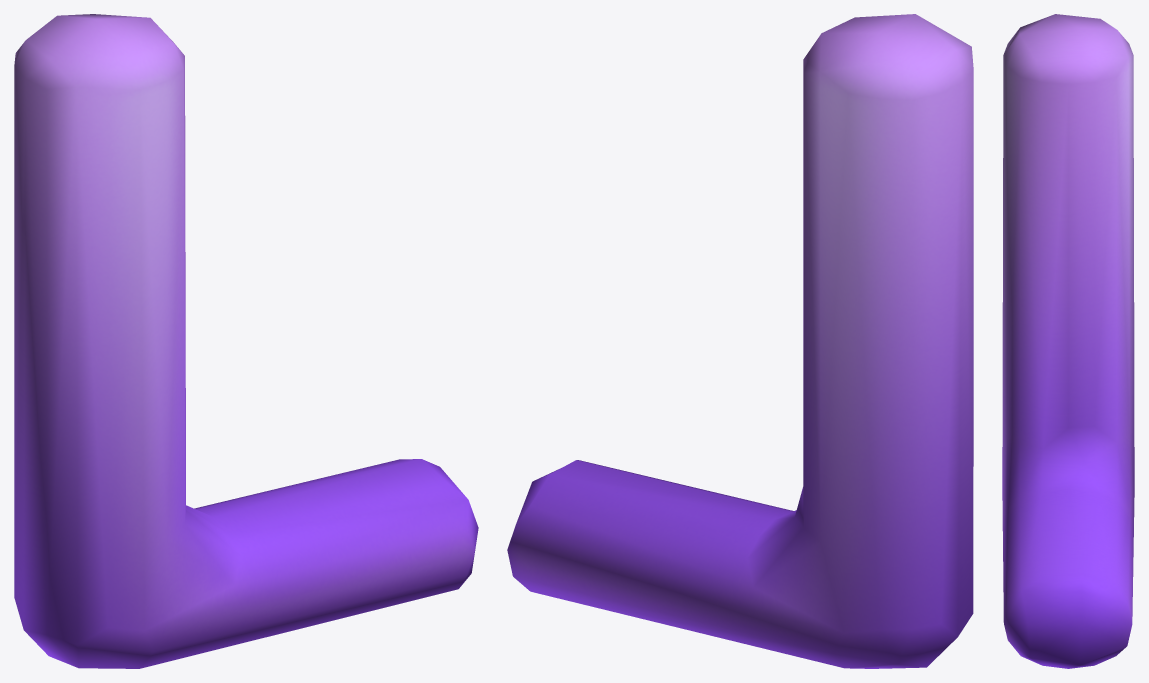
3 views of the same model, side by side, from view 1: azimuth 30°, elevation 25°; view 2: azimuth 150°, elevation 25°; view 3: azimuth 270°, elevation 25° (orthographic). The views are drawn at different scales.
Visible parts, largest first — view 1: Processed_Mesh0_Geometry; view 2: Processed_Mesh0_Geometry; view 3: Processed_Mesh0_Geometry.
Part boxes in pixels (x1=…): Processed_Mesh0_Geometry: x1=14, y1=14, x2=478, y2=668; Processed_Mesh0_Geometry: x1=507, y1=14, x2=973, y2=668; Processed_Mesh0_Geometry: x1=1002, y1=14, x2=1134, y2=668.
Size of what is drawn, in the model's own units: 0.0578 by 0.0816 by 0.0191.
Materials: 1 (1 with a texture image).
